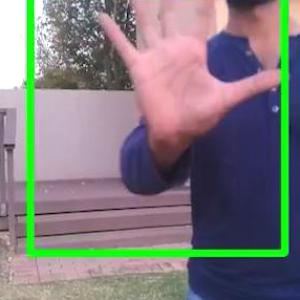follow_hand: (91, 0, 294, 145)
